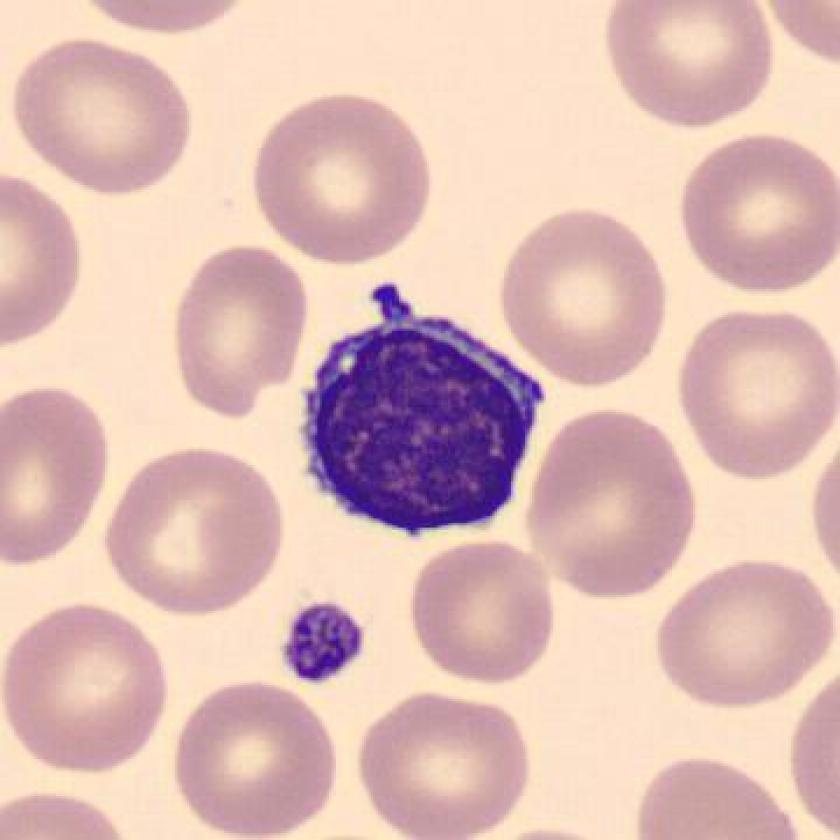lymphocyte: (295, 270, 561, 550)
